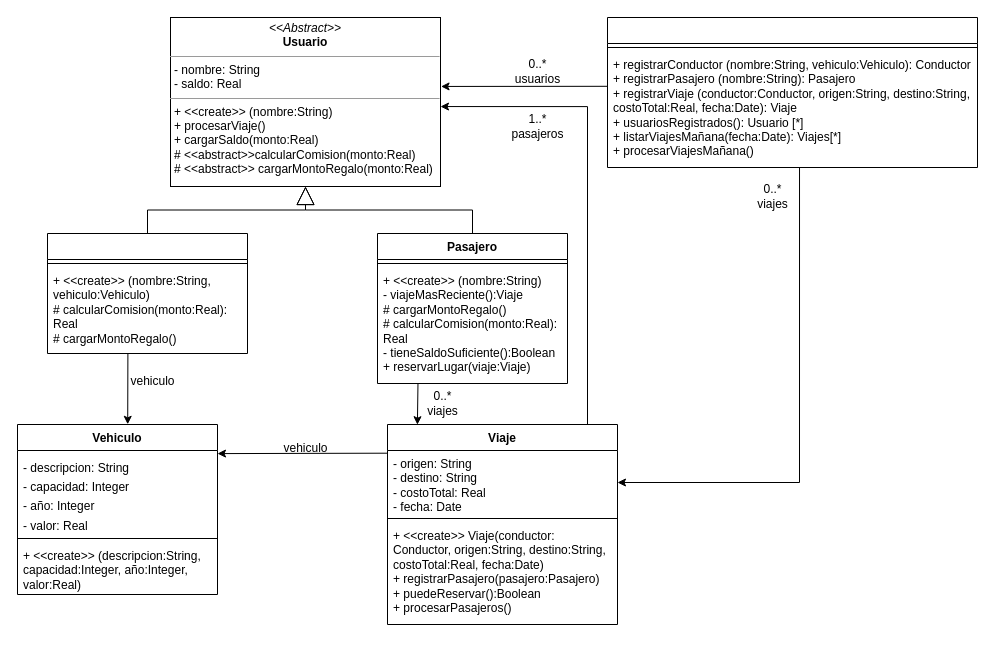
The diagram is 995 pixels wide and 645 high, and some of its shapes have lost their labels. The box of each missing label's shape, as (x1, y1, x2, y2) in pixels:
Conductor: (46, 232, 248, 354)
PoolCar: (606, 16, 978, 168)
